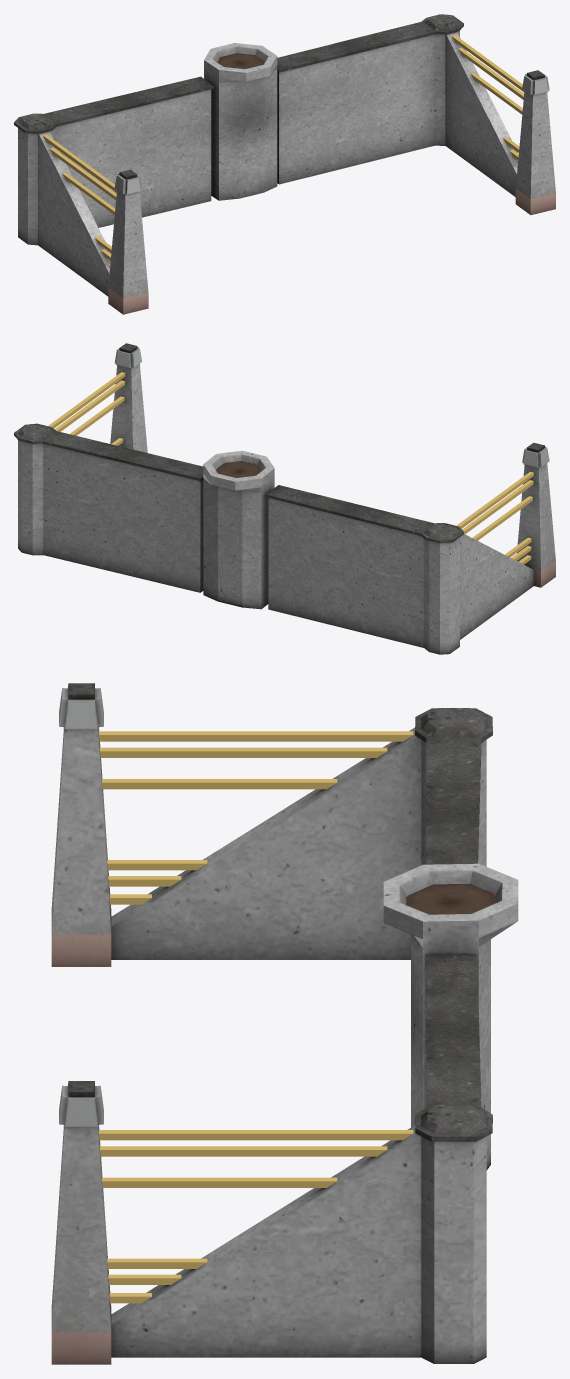
The model's file is tower-ornamental-fence-art.glb.
3 views of the same model, one above another, from view 1: azimuth 30°, elevation 25°; view 2: azimuth 150°, elevation 25°; view 3: azimuth 270°, elevation 25° (orthographic). The views are drawn at different scales.
Visible parts, largest first — view 1: Tower_Ornamental_Fence_Art; view 2: Tower_Ornamental_Fence_Art; view 3: Tower_Ornamental_Fence_Art.
Boxes of the visible parts, x1,y1,x2,y2 form: Tower_Ornamental_Fence_Art: (14,14,555,314); Tower_Ornamental_Fence_Art: (14,343,555,654); Tower_Ornamental_Fence_Art: (51,683,518,1364).
Size of the model in its own units: 3.9 by 1.13 by 1.79.
1 material, 1 textured.
